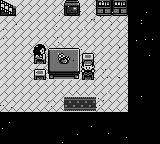leer: (64, 0, 80, 16)
main: (81, 60, 96, 77)
no-caminable: (1, 1, 159, 143), (48, 49, 80, 79), (96, 0, 127, 16)
npc: (34, 44, 46, 61)
puerta: (62, 95, 100, 112), (1, 1, 16, 16)
